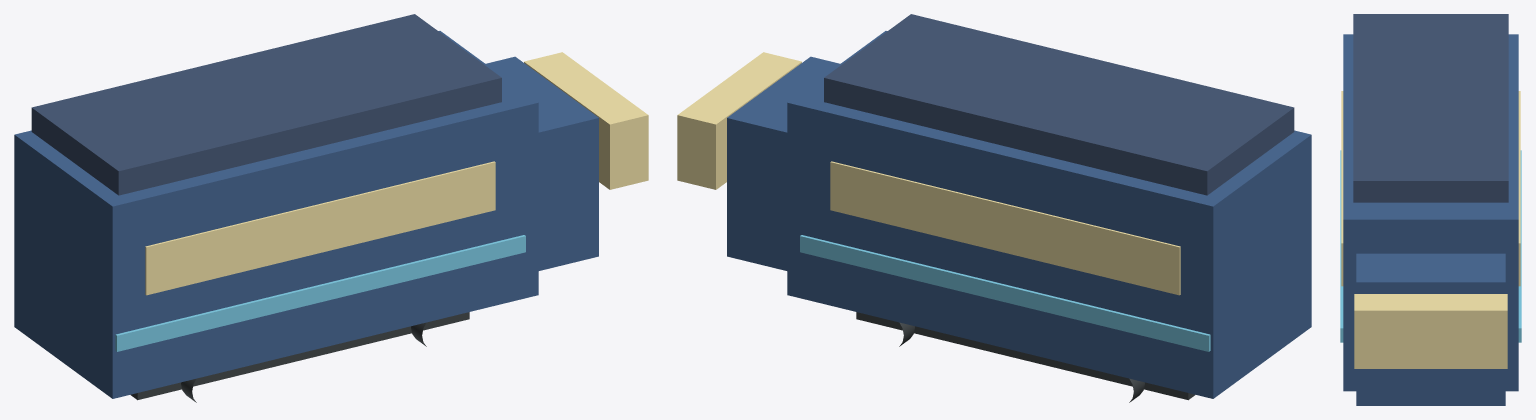
The model's file is nightjet.glb.
3 renders of one model, left to right at view 1: azimuth 30°, elevation 25°; view 2: azimuth 150°, elevation 25°; view 3: azimuth 270°, elevation 25°, orthographic. The views are drawn at different scales.
Visible parts, largest first — view 1: body_shell, roof, window_band, front_nose, livery_stripe, front_glass, undercarriage; view 2: body_shell, roof, window_band, front_nose, livery_stripe, front_glass, undercarriage; view 3: roof, body_shell, front_nose, front_glass, window_band, livery_stripe.
Part boxes in pixels (box(x1,y1,x2,y2)): body_shell: box(14, 31, 538, 398); roof: box(31, 14, 501, 195); window_band: box(145, 161, 495, 295); front_nose: box(486, 56, 598, 270); livery_stripe: box(115, 235, 525, 351); front_glass: box(524, 52, 648, 189); undercarriage: box(130, 312, 469, 400); body_shell: box(787, 31, 1311, 398); roof: box(824, 14, 1294, 195); window_band: box(830, 161, 1180, 295); front_nose: box(727, 56, 839, 270); livery_stripe: box(800, 235, 1210, 351); front_glass: box(677, 52, 801, 189); undercarriage: box(856, 312, 1195, 400); roof: box(1353, 14, 1508, 202); body_shell: box(1343, 34, 1518, 391); front_nose: box(1356, 253, 1505, 405); front_glass: box(1354, 294, 1507, 368); window_band: box(1341, 91, 1520, 286); livery_stripe: box(1340, 150, 1521, 342).
Bounding box in the file's own units: 2.8 × 1.25 × 0.91.
